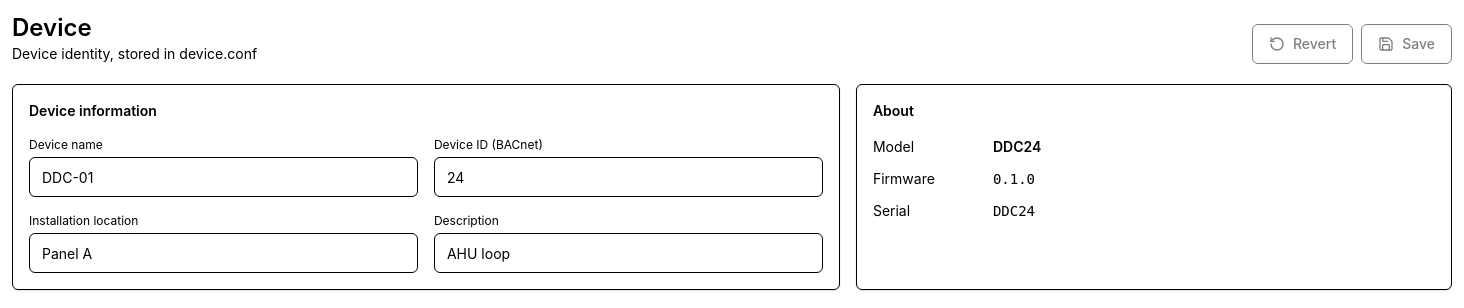
Scenario: SettingsPage device configuration › reports a save failure instead of claiming success
The width and height of the screenshot is (1464, 308).
Step 1. Type "x" into the field labelled "Device name" → x=224, y=177, box x1=29 y1=157 x2=418 y2=197
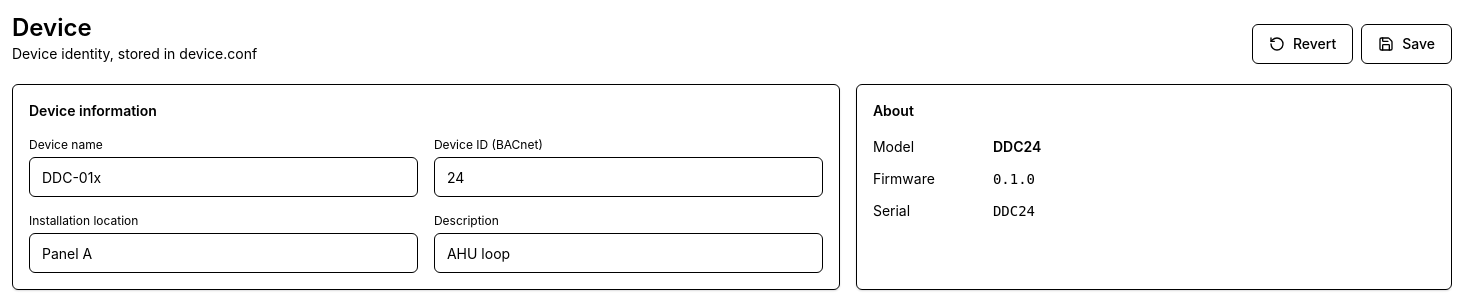
Step 2. Click the button "Save" → x=1407, y=44, box x1=1361 y1=24 x2=1452 y2=64
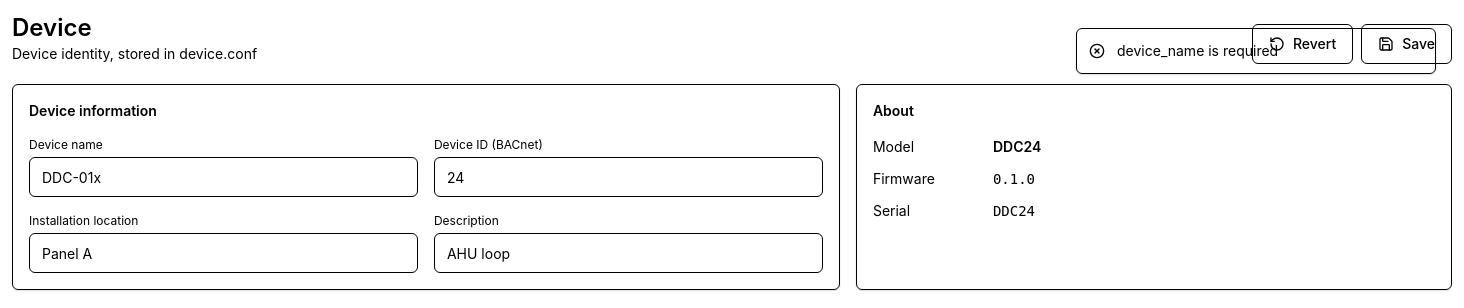
Check: the text "device_name is required" is shown, box x1=1117 y1=41 x2=1278 y2=61
